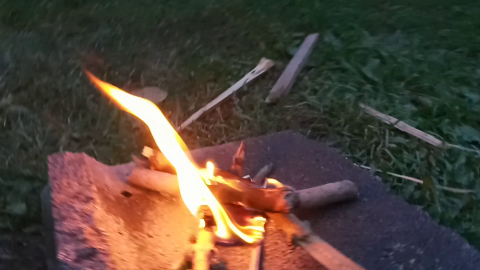fire: (75, 64, 258, 236)
